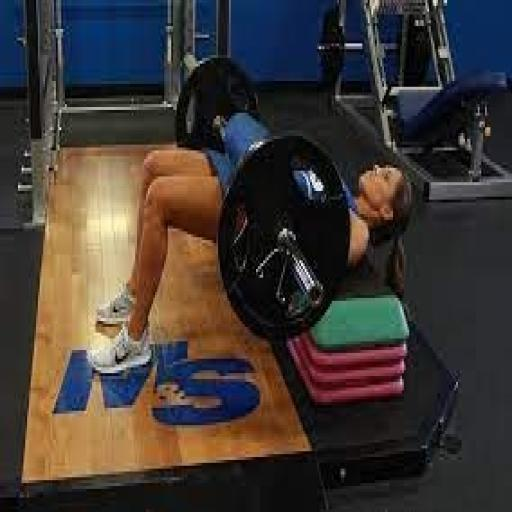exercise: (84, 52, 414, 376)
